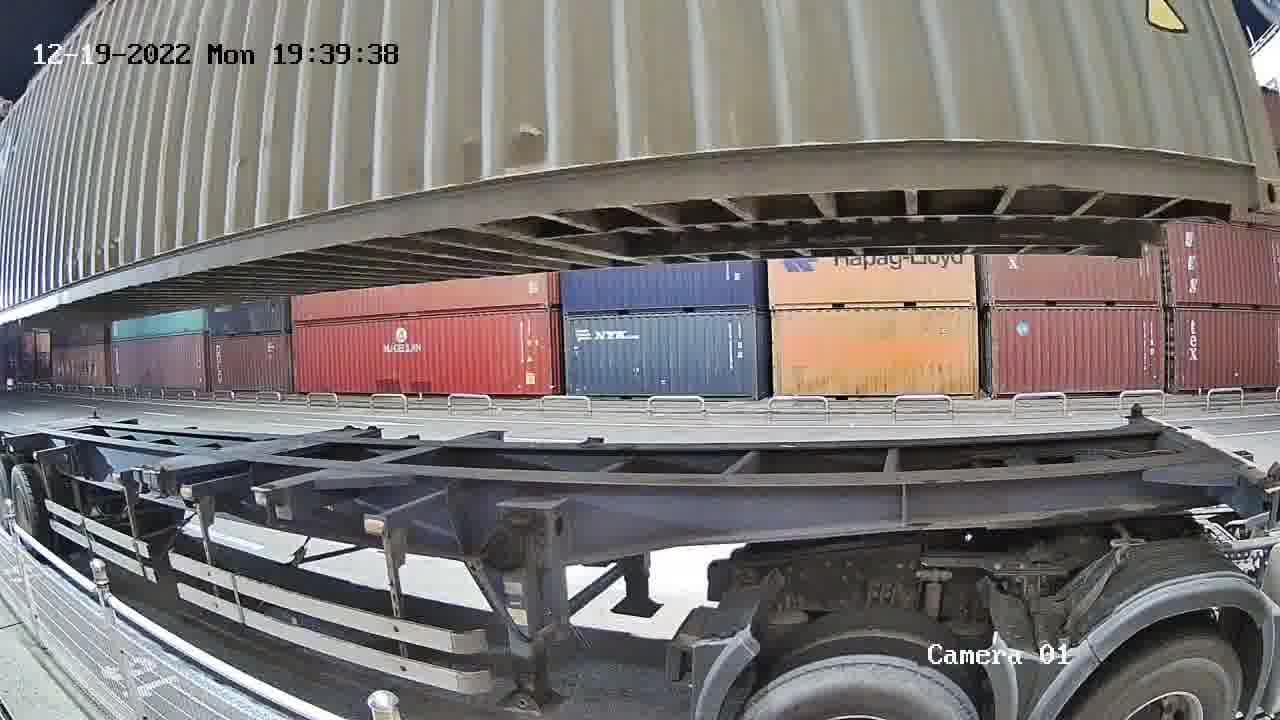Chassis: (1125, 414, 1279, 519)
Cone: (1127, 401, 1147, 419)
Hole_R: (1183, 131, 1279, 206)
Tire: (748, 657, 979, 714), (1079, 639, 1244, 716)
